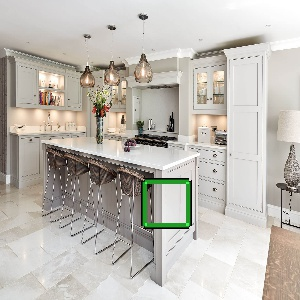square: (137, 177, 193, 231)
